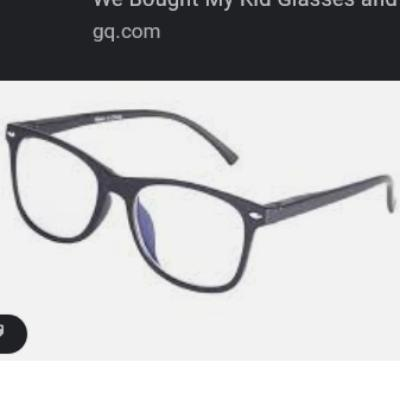glasses: (4, 104, 400, 292)
